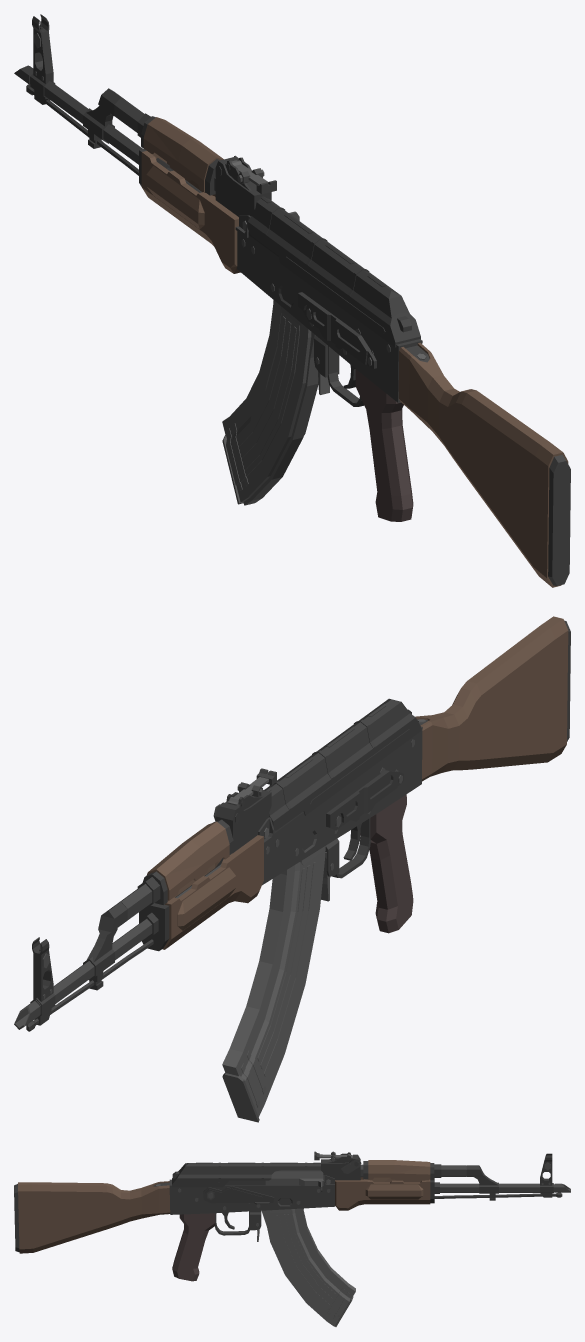
The picture shows the model from 3 angles, top to bottom: view 1: azimuth 30°, elevation 25°; view 2: azimuth 150°, elevation 25°; view 3: azimuth 270°, elevation 25°; orthographic projection. The views are drawn at different scales.
Visible parts, largest first — view 1: body, mag; view 2: body, mag; view 3: body, mag, bolt.
Boxes of the visible parts, x1,y1,x2,y2 form: body: (14,14,570,587); mag: (222,300,318,505); body: (14,616,570,1031); mag: (222,846,325,1122); body: (14,1151,570,1281); mag: (261,1208,355,1326); bolt: (265,1170,323,1191).
Size of the model in its own units: 0.0519 by 0.2999 by 0.88.
